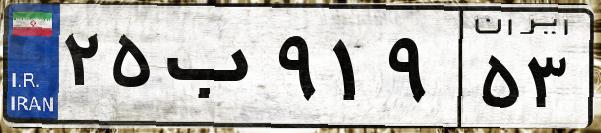1: (330, 28, 385, 110)
2: (57, 26, 110, 100)
3: (525, 38, 570, 115)
5: (475, 38, 525, 113), (110, 28, 158, 98)
9: (270, 28, 330, 110), (385, 28, 445, 110)
ب: (158, 20, 270, 120)
